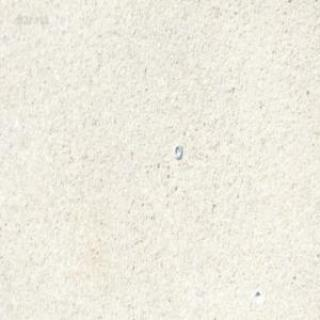Washertrack_idkeyframe: (174, 142, 182, 158)
